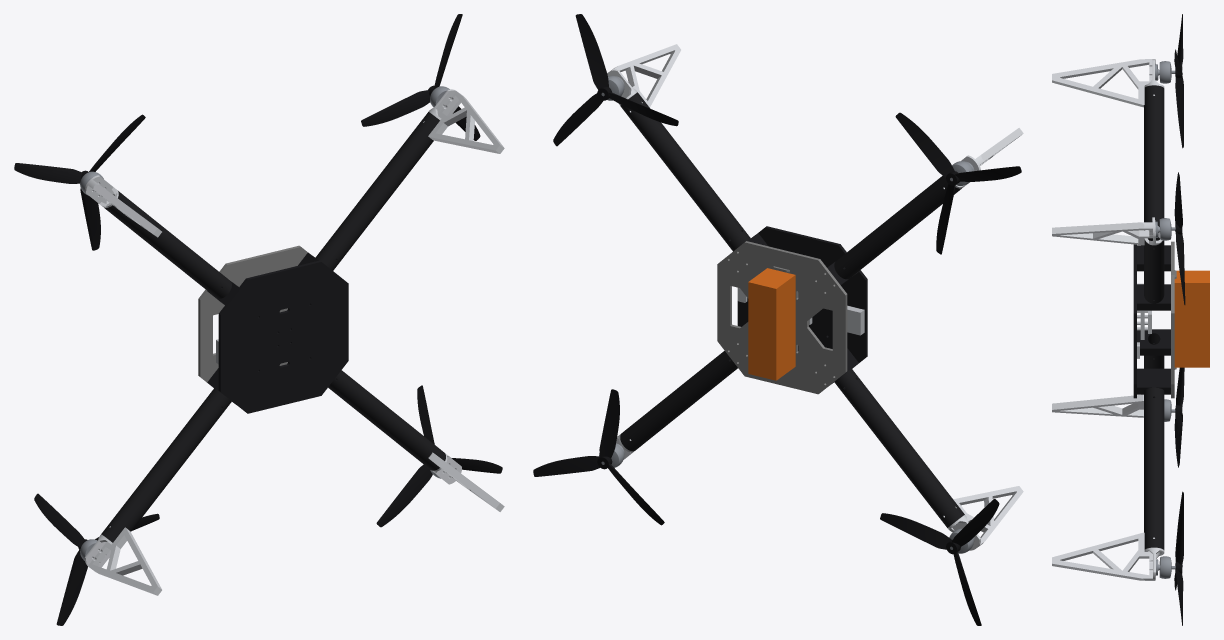
Rendered from razorbill.glb.
3 views of the same model, side by side, from view 1: azimuth 30°, elevation 25°; view 2: azimuth 150°, elevation 25°; view 3: azimuth 270°, elevation 25° (orthographic). The views are drawn at different scales.
Parts seen in each view (by area): view 1: hub, arm_3, arm_1, top_plate, arm_2, arm_0, prop_0, leg_3, leg_1, prop_2, prop_3, prop_1 (+2 smaller); view 2: top_plate, battery, hub, arm_3, arm_1, arm_0, arm_2, prop_1, prop_2, prop_0, prop_3, leg_1 (+1 smaller); view 3: battery, arm_2, hub, arm_0, leg_2, leg_0, leg_1, leg_3, arm_1, prop_2, prop_0, prop_1 (+6 smaller).
Part boxes in pixels (<box>): hub: <box>207,250,348,413</box>; arm_3: <box>101,388,231,542</box>; arm_1: <box>315,112,439,270</box>; top_plate: <box>198,245,307,387</box>; arm_2: <box>328,370,445,470</box>; arm_0: <box>104,191,231,298</box>; prop_0: <box>14,114,145,250</box>; leg_3: <box>84,526,161,595</box>; leg_1: <box>423,89,504,153</box>; prop_2: <box>376,385,502,527</box>; prop_3: <box>34,493,159,625</box>; prop_1: <box>361,14,480,140</box>; top_plate: <box>717,241,847,394</box>; battery: <box>748,268,795,380</box>; hub: <box>729,226,867,388</box>; arm_3: <box>834,368,964,527</box>; arm_1: <box>620,92,750,251</box>; arm_0: <box>834,175,961,279</box>; arm_2: <box>620,351,737,451</box>; prop_1: <box>553,14,678,146</box>; prop_2: <box>533,389,664,525</box>; prop_0: <box>895,112,1021,254</box>; prop_3: <box>880,499,999,625</box>; leg_1: <box>607,44,680,112</box>; battery: <box>1174,270,1209,367</box>; arm_2: <box>1144,387,1164,549</box>; hub: <box>1133,244,1170,398</box>; arm_0: <box>1144,85,1164,230</box>; leg_2: <box>1052,532,1164,580</box>; leg_0: <box>1052,59,1164,107</box>; leg_1: <box>1052,217,1162,245</box>; leg_3: <box>1052,394,1143,417</box>; arm_1: <box>1144,237,1164,303</box>; prop_2: <box>1174,491,1183,625</box>; prop_0: <box>1174,14,1183,148</box>; prop_1: <box>1174,172,1185,304</box>.
Size of the model in its own units: 0.7626 by 0.7683 by 0.232.
